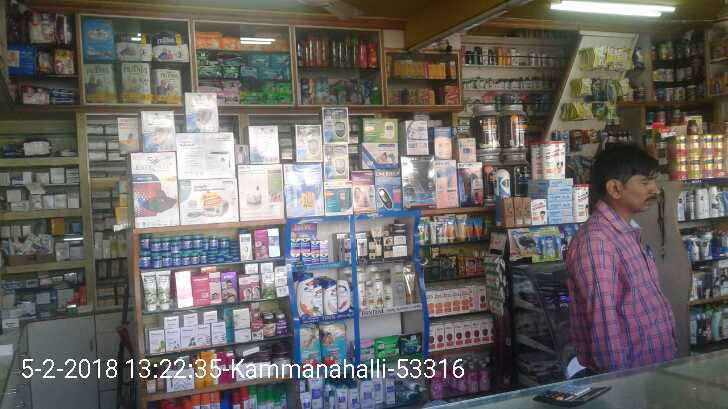beauty: (297, 273, 314, 317), (322, 279, 338, 315), (336, 277, 351, 312), (311, 284, 325, 317), (370, 227, 383, 257), (366, 279, 374, 308), (359, 276, 366, 309), (382, 283, 392, 305), (383, 236, 392, 257), (356, 236, 366, 254), (393, 232, 406, 245)
pharmacy: (134, 231, 235, 265), (286, 227, 330, 261)
